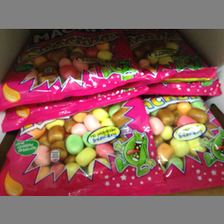candy: (2, 111, 159, 195)
